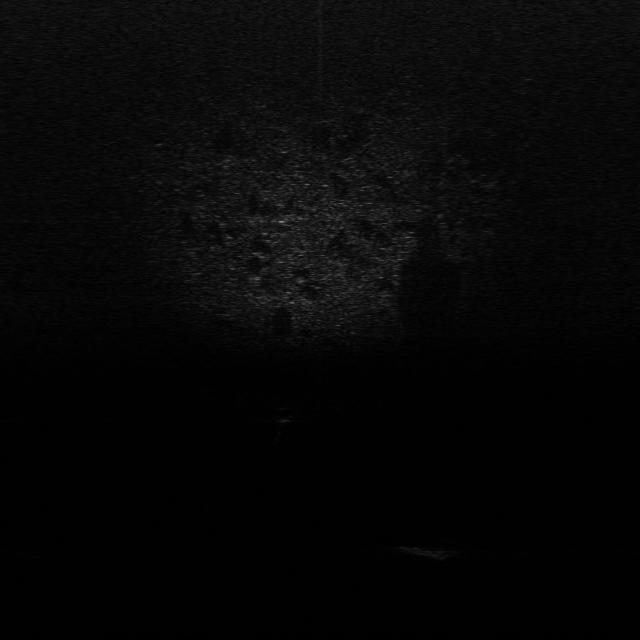ball: (273, 402, 297, 425)
metal bucket: (398, 541, 463, 563)
